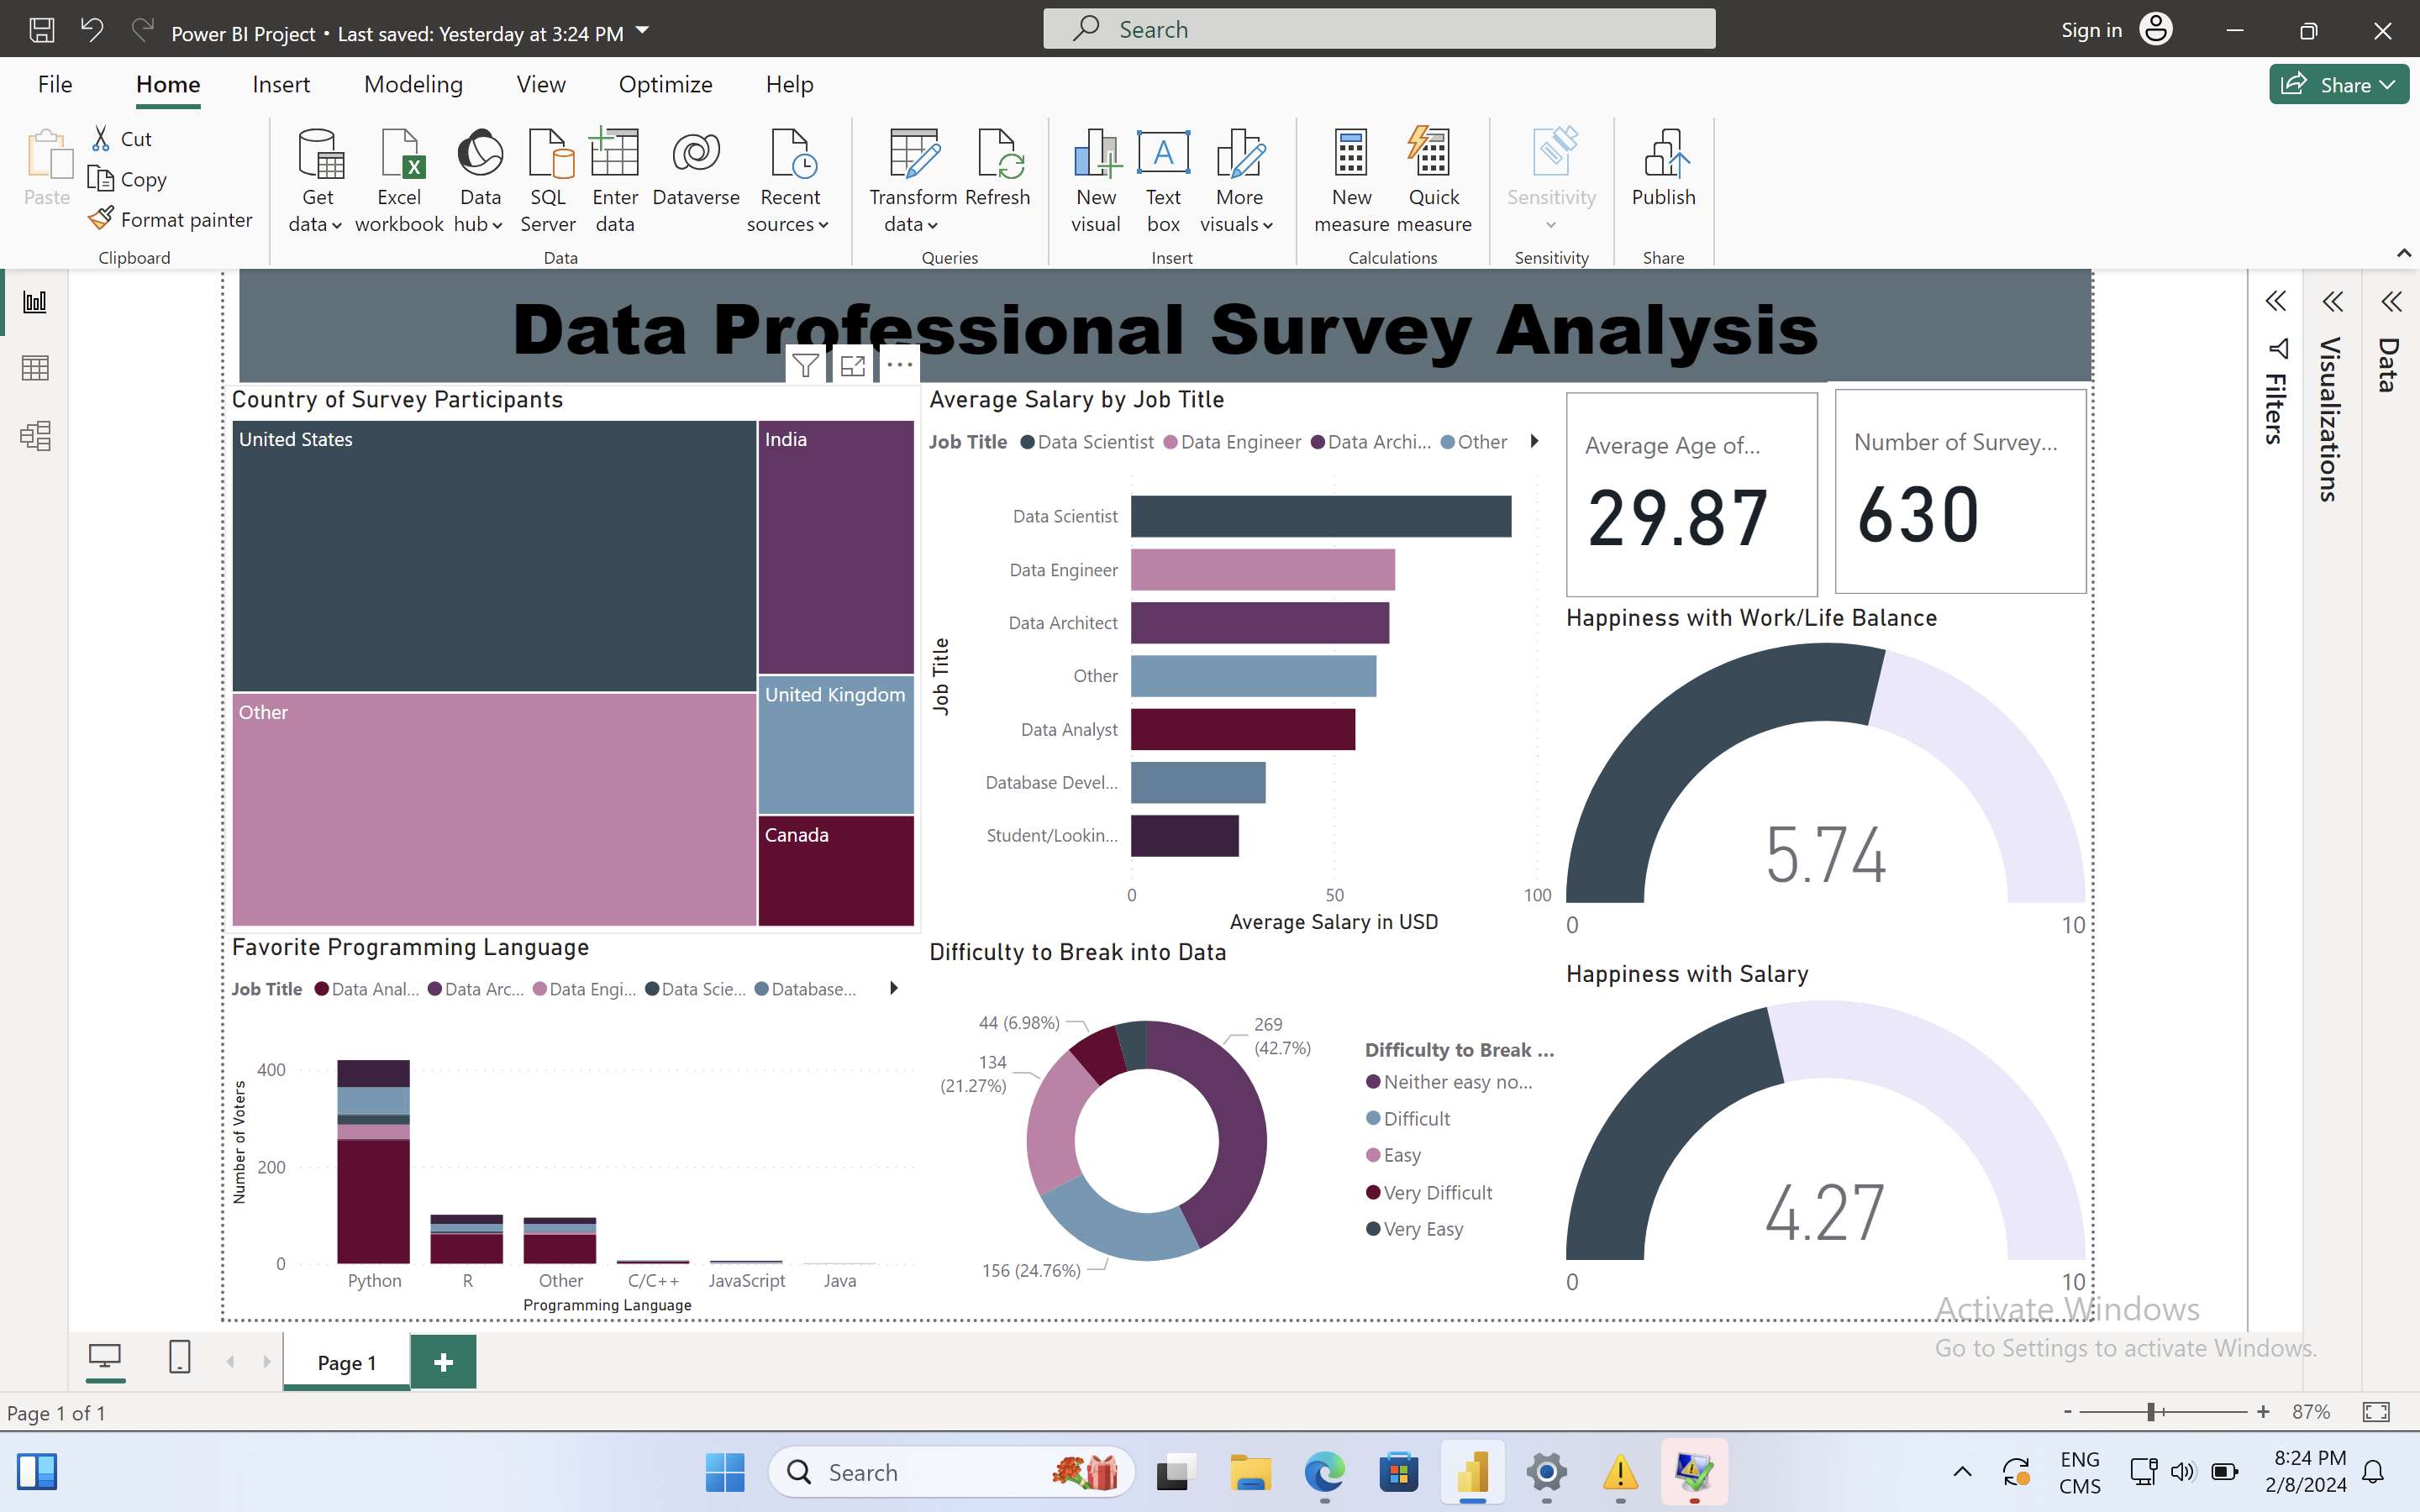

The dashboard page shown, as its layout file describes it:
{"tool":"powerbi","page":{"name":"Page 1","canvas":[1280,720],"ordinal":0},"visuals":[{"type":"textbox","box":[10.7,0,1269.3,78.1],"z":0},{"type":"cardVisual","fields":{"Data":["Count(Data Professional Survey.Unique ID)"]},"box":[1099.1,77.8,183.9,151],"z":1000},{"type":"cardVisual","fields":{"Data":["Avg(Data Professional Survey.Q10 - Current Age)"]},"box":[915.1,79.3,183.9,151],"z":2000},{"type":"barChart","title":"Average Salary by Job Title","fields":{"Category":["Data Professional Survey.Q1 - Which Title Best Fits your Current Role?.1"],"Y":["Avg(Data Professional Survey.Average Salary in USD)"],"Series":["Data Professional Survey.Q1 - Which Title Best Fits your Current Role?.1"]},"box":[478.5,79.3,436.6,381.3],"z":3000},{"type":"columnChart","title":"Favorite Programming Language","fields":{"Category":["Data Professional Survey.Q5 - Favorite Programming Language.1"],"Y":["CountNonNull(Data Professional Survey.Unique ID)"],"Series":["Data Professional Survey.Q1 - Which Title Best Fits your Current Role?.1"]},"box":[0,454.6,478.5,266.2],"z":3001},{"type":"treemap","title":"Country of Survey Participants","fields":{"Group":["Data Professional Survey.Q11 - Which Country do you live in?.1"],"Values":["CountNonNull(Data Professional Survey.Q11 - Which Country do you live in?.1)"]},"box":[0,79.3,478.5,376.8],"z":3002},{"type":"gauge","title":"Happiness with Work/Life Balance","fields":{"Y":["Avg(Data Professional Survey.Q6 - How Happy are you in your Current Position with the following? (Work/Life Balance))"],"MinValue":["Min(Data Professional Survey.Q6 - How Happy are you in your Current Position with the following? (Work/Life Balance))1"],"MaxValue":["Max(Data Professional Survey.Q6 - How Happy are you in your Current Position with the following? (Work/Life Balance))2"]},"box":[915.1,228.8,366.4,245.2],"z":3003},{"type":"gauge","title":"Happiness with Salary","fields":{"Y":["Avg(Data Professional Survey.Q6 - How Happy are you in your Current Position with the following? (Salary))"],"MinValue":["Min(Data Professional Survey.Q6 - How Happy are you in your Current Position with the following? (Salary))"],"MaxValue":["Max(Data Professional Survey.Q6 - How Happy are you in your Current Position with the following? (Salary))"],"TargetValue":["Sum(Data Professional Survey.Q6 - How Happy are you in your Current Position with the following? (Salary))"]},"box":[915.1,474,366.4,246.7],"z":3004},{"type":"donutChart","title":"Difficulty to Break into Data","fields":{"Category":["Data Professional Survey.Q7 - How difficult was it for you to break into Data?"],"Y":["CountNonNull(Data Professional Survey.Q7 - How difficult was it for you to break into Data?)"]},"box":[478.5,459.1,436.6,260.2],"z":3005}]}

Visuals, with their boxes on the page's 1280x720 design canvas (x1, y1, x2, y2). These are canvas units, not pixel positions in the 2420x1512 screenshot, which may show the page scaled, cropped or inside an application window:
textbox: {"x1": 11, "y1": 0, "x2": 1280, "y2": 78}
cardVisual - Count(Data Professional Survey.Unique ID): {"x1": 1099, "y1": 78, "x2": 1283, "y2": 229}
cardVisual - Avg(Data Professional Survey.Q10 - Current Age): {"x1": 915, "y1": 79, "x2": 1099, "y2": 230}
"Average Salary by Job Title" barChart: {"x1": 478, "y1": 79, "x2": 915, "y2": 461}
"Favorite Programming Language" columnChart: {"x1": 0, "y1": 455, "x2": 478, "y2": 721}
"Country of Survey Participants" treemap: {"x1": 0, "y1": 79, "x2": 478, "y2": 456}
"Happiness with Work/Life Balance" gauge: {"x1": 915, "y1": 229, "x2": 1282, "y2": 474}
"Happiness with Salary" gauge: {"x1": 915, "y1": 474, "x2": 1282, "y2": 721}
"Difficulty to Break into Data" donutChart: {"x1": 478, "y1": 459, "x2": 915, "y2": 719}
